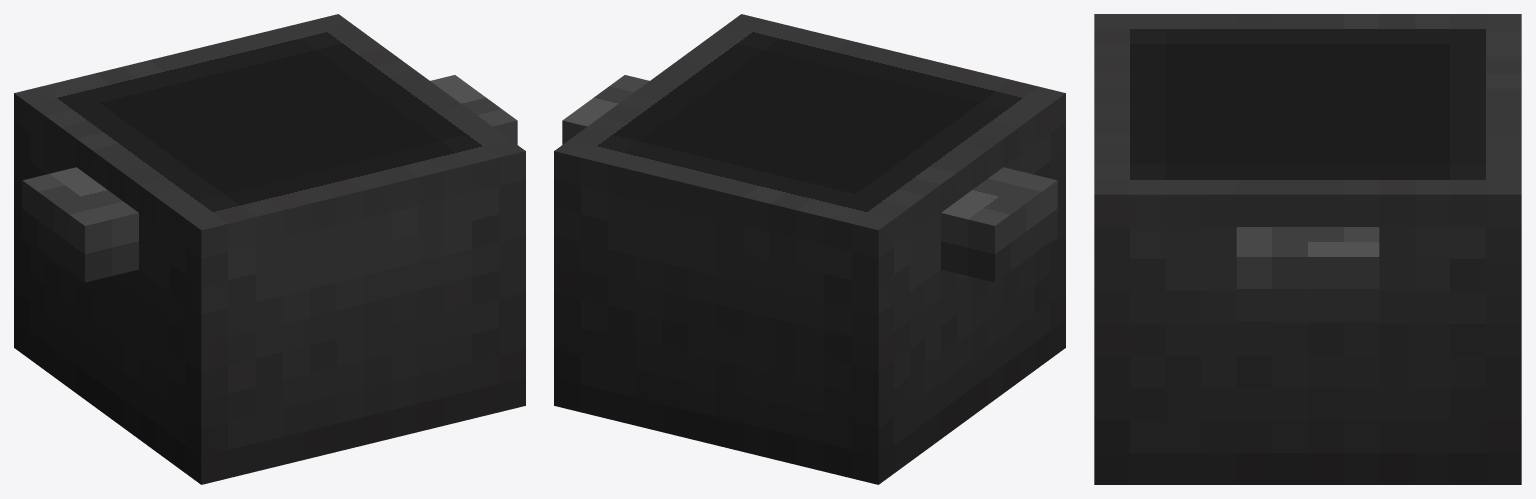
The model's file is cooking_pot.obj.
3 views of the same model, side by side, from view 1: azimuth 30°, elevation 25°; view 2: azimuth 150°, elevation 25°; view 3: azimuth 270°, elevation 25° (orthographic). The views are drawn at different scales.
Parts seen in each view (by area): view 1: cube; view 2: cube; view 3: cube.
Part boxes in pixels (x1,y1,x2,y2): cube: (14, 14, 525, 484); cube: (554, 14, 1065, 484); cube: (1094, 14, 1521, 484).
Size of the model in its own units: 1 by 0.5625 by 0.75.
